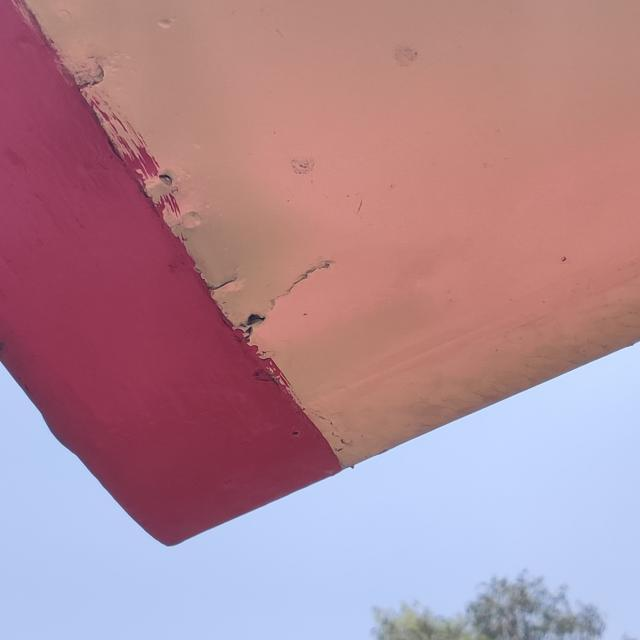Crack: (271, 259, 335, 306), (206, 268, 247, 302), (239, 314, 267, 340)
